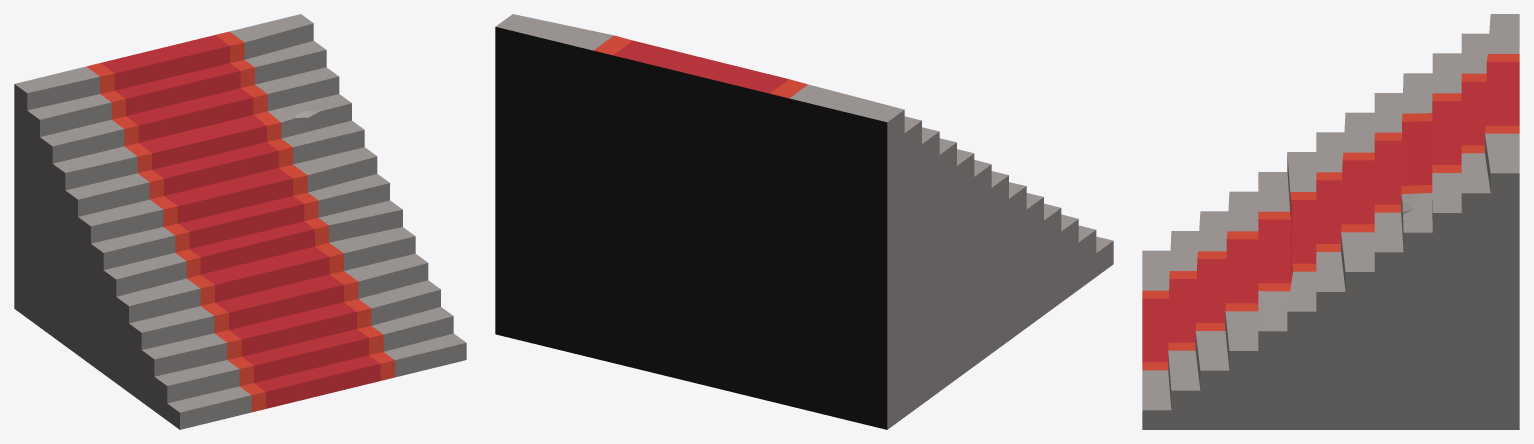
File: fantasy_dungeon-stairs-stone-carpet.fbx
3 renders of one model, left to right at view 1: azimuth 30°, elevation 25°; view 2: azimuth 150°, elevation 25°; view 3: azimuth 270°, elevation 25°, orthographic. The views are drawn at different scales.
Visible parts, largest first — view 1: fantasy_dungeon_stairs_stone_carpet; view 2: fantasy_dungeon_stairs_stone_carpet; view 3: fantasy_dungeon_stairs_stone_carpet.
Part boxes in pixels (x1=…): fantasy_dungeon_stairs_stone_carpet: x1=14, y1=14, x2=466, y2=429; fantasy_dungeon_stairs_stone_carpet: x1=495, y1=14, x2=1113, y2=429; fantasy_dungeon_stairs_stone_carpet: x1=1142, y1=14, x2=1519, y2=429.
Bounding box in the file's own units: 200 × 150 × 200.
